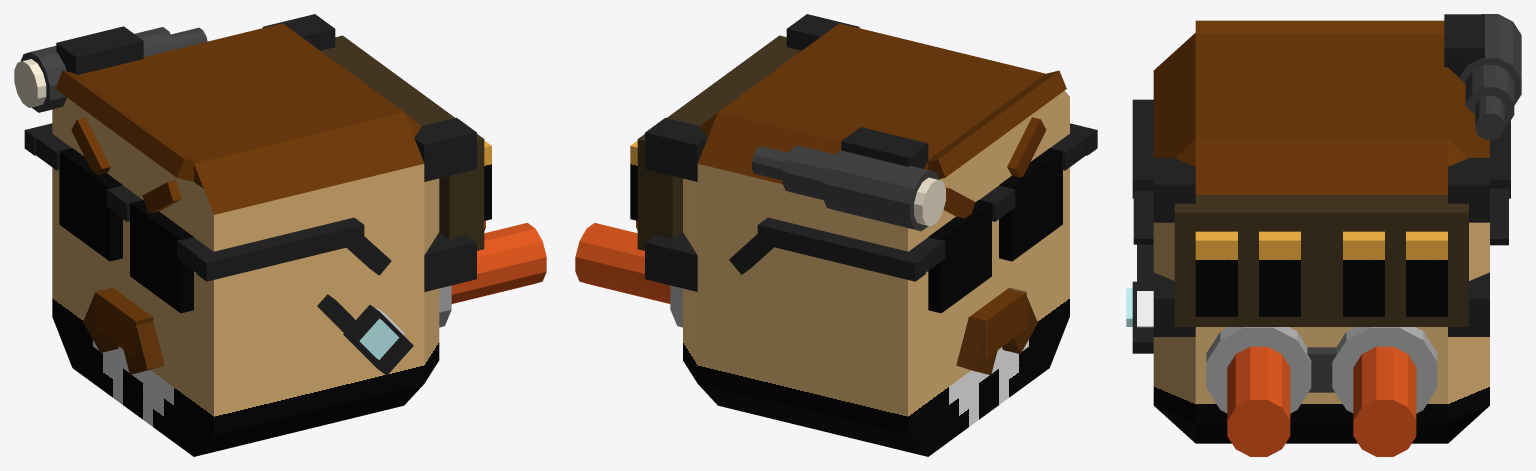
File: playerDashing.gltf
3 views of the same model, side by side, from view 1: azimuth 30°, elevation 25°; view 2: azimuth 150°, elevation 25°; view 3: azimuth 270°, elevation 25° (orthographic). The views are drawn at different scales.
Parts seen in each view (by area): view 1: beveled_cuboid, cube (×22), tube (×3); view 2: beveled_cuboid, cube (×19), tube (×4); view 3: beveled_cuboid, cube (×19), tube (×7).
Part boxes in pixels (x1=…): beveled_cuboid: x1=52, y1=23, x2=439, y2=456; cube (×22): x1=36, y1=14, x2=491, y2=375; tube (×3): x1=14, y1=27, x2=546, y2=303; beveled_cuboid: x1=683, y1=23, x2=1069, y2=456; cube (×19): x1=630, y1=14, x2=1086, y2=374; tube (×4): x1=575, y1=145, x2=945, y2=303; beveled_cuboid: x1=1153, y1=33, x2=1489, y2=443; cube (×19): x1=1132, y1=14, x2=1510, y2=392; tube (×7): x1=1206, y1=14, x2=1521, y2=456.
Size of the model in its own units: 1.41 by 1.06 by 1.18.
3 materials, 3 textured.
